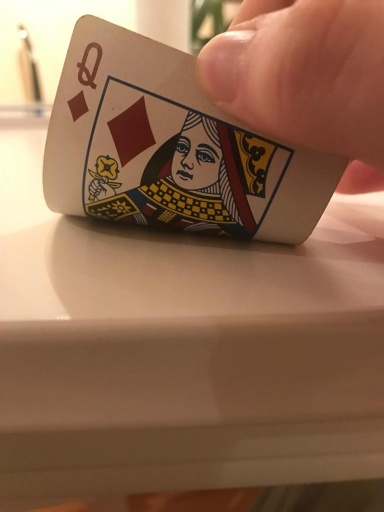Dq: (67, 36, 104, 124)
